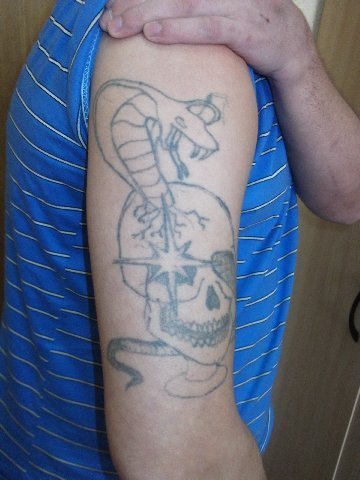tatu7_zmeya: (78, 62, 231, 404)
